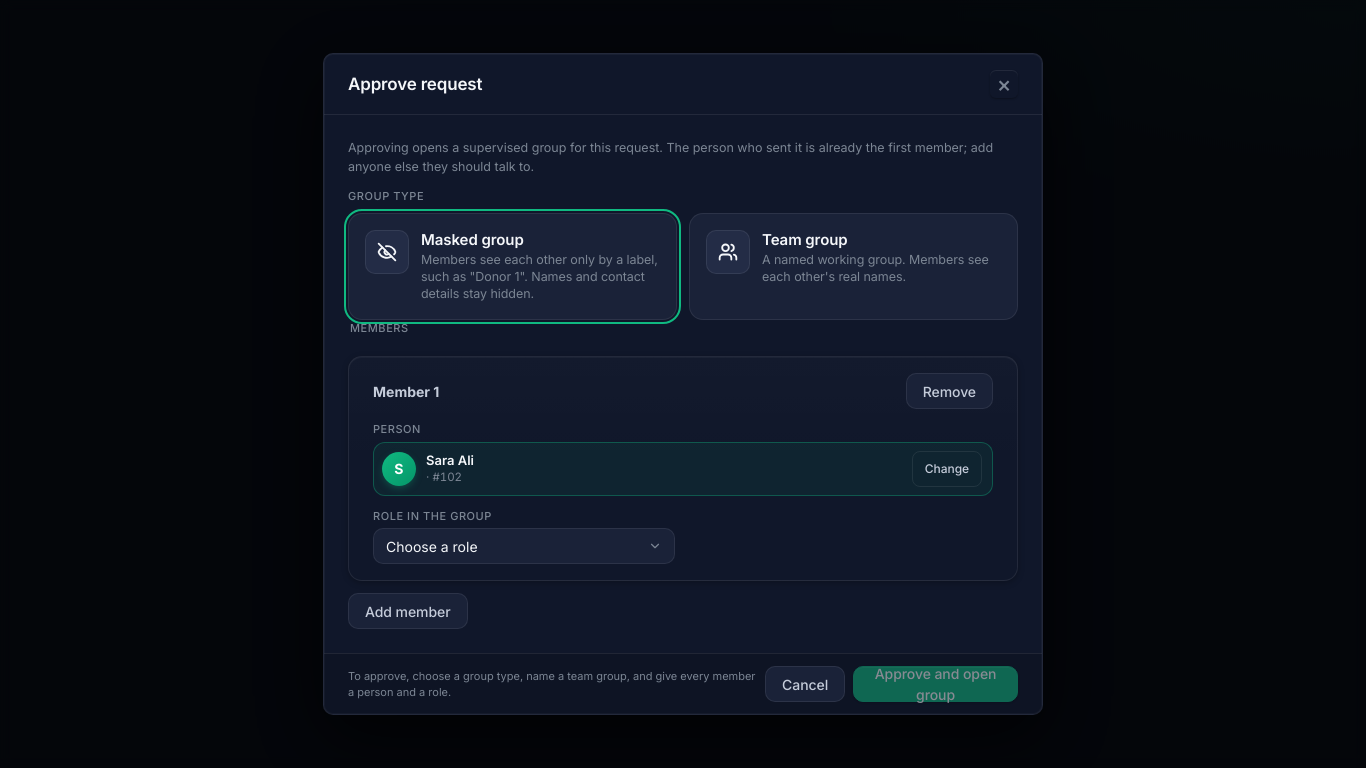
Test: ApproveRequestDialog › shows an already-decided refusal atop the form and keeps the dialog open
The width and height of the screenshot is (1366, 768).
Click the radio button labelled "Masked group" at point(512, 266), box [348,213,677,320]
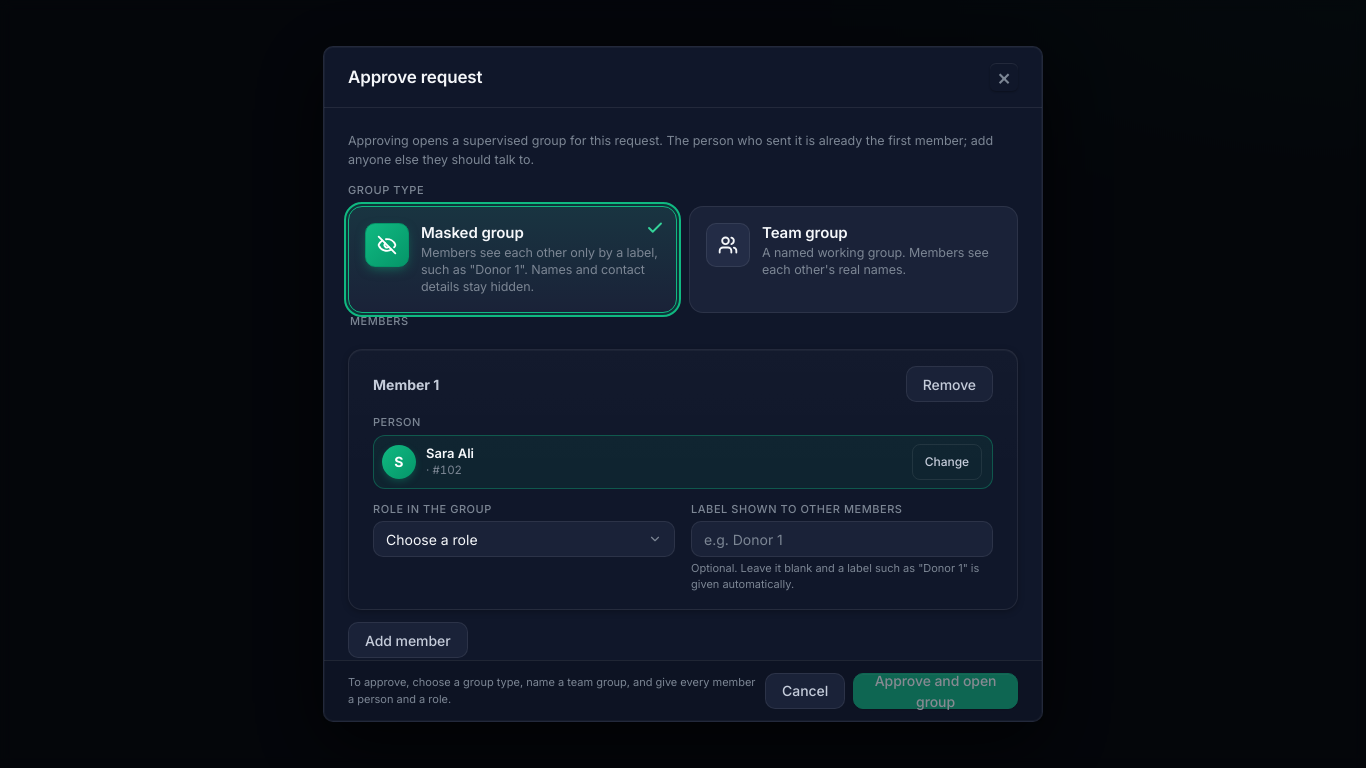
Select "Grantor" in the dropdown labelled "Role in the group" at point(524, 540), box [373,522,675,558]
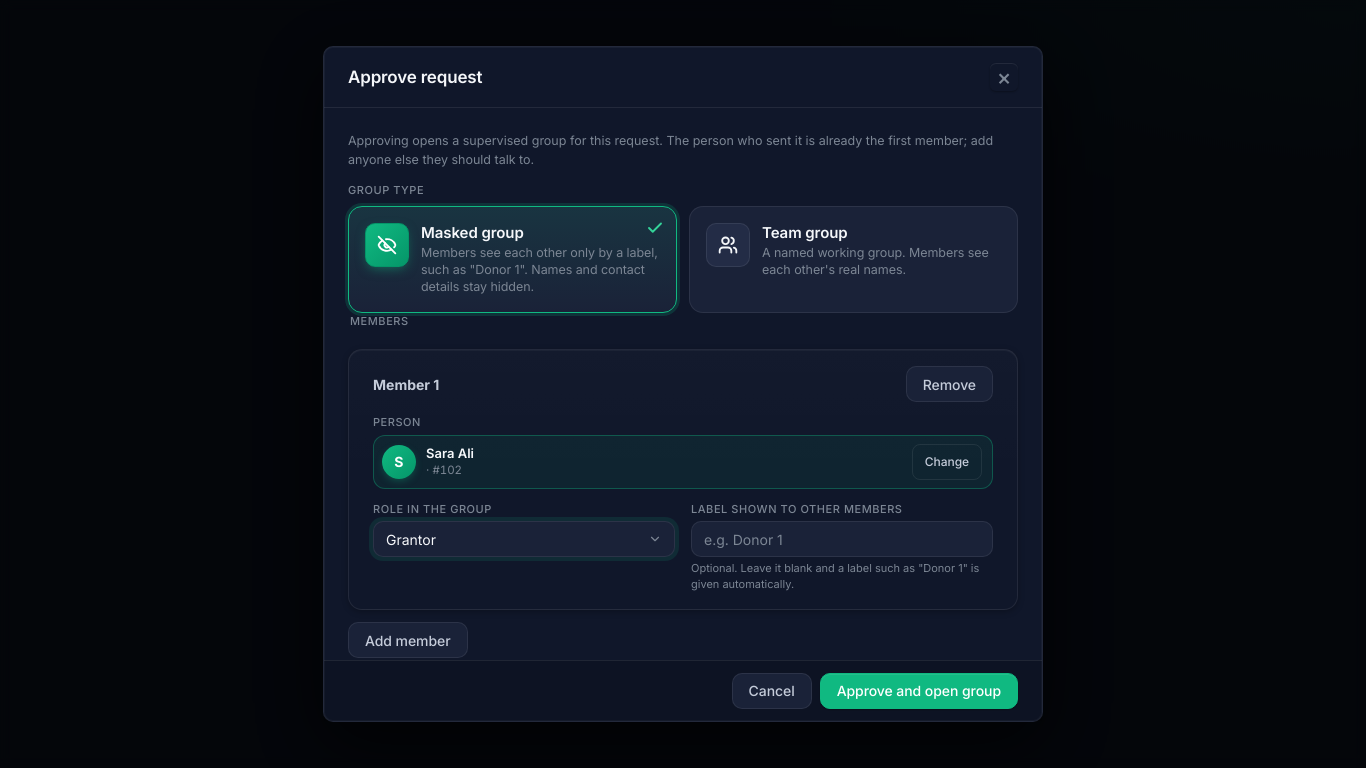
Click the button "Approve and open group" at point(919, 691), box [820,673,1018,709]
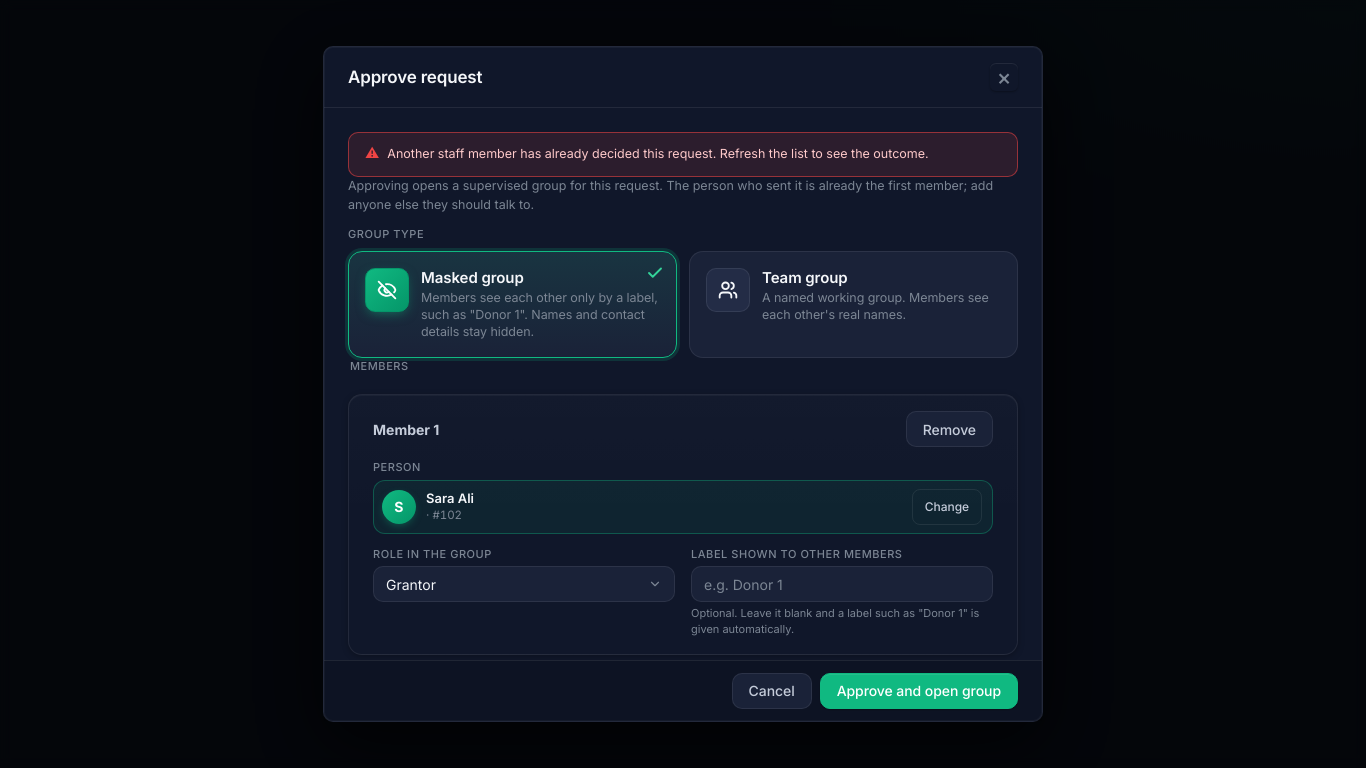
Check: the message shows "Another staff member has already decided this request.", box [387,146,929,161]
